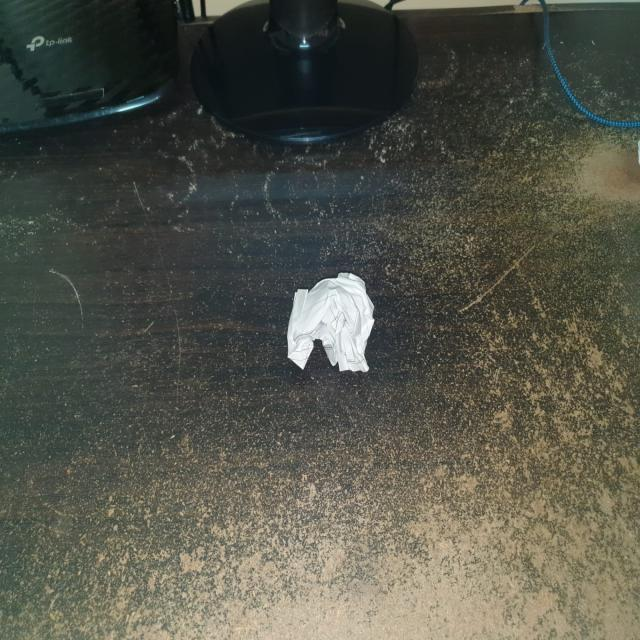Paper: (291, 270, 378, 372)
